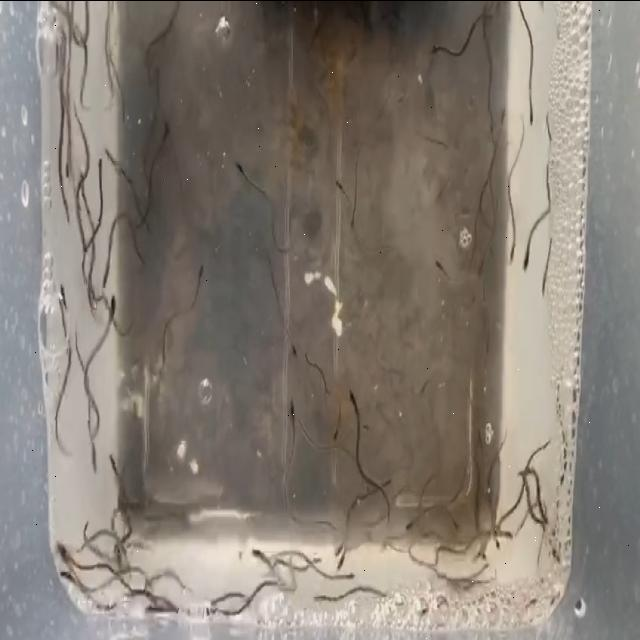inactive_glass_eel: (324, 526, 354, 579), (497, 230, 519, 282), (523, 86, 543, 142), (96, 282, 120, 326), (519, 228, 539, 280), (428, 244, 448, 292), (331, 156, 353, 198), (285, 316, 302, 370), (304, 330, 324, 370), (104, 447, 124, 487), (397, 502, 421, 532), (444, 512, 468, 542), (58, 556, 78, 592), (56, 532, 74, 572), (341, 378, 359, 414), (197, 257, 210, 304), (286, 386, 300, 426), (489, 525, 507, 555), (422, 30, 438, 62), (88, 432, 98, 483), (58, 268, 68, 316), (252, 536, 266, 570), (162, 105, 174, 142), (519, 455, 535, 482), (96, 144, 106, 182), (60, 152, 74, 178), (327, 433, 341, 457), (100, 270, 112, 298), (344, 213, 362, 230)
